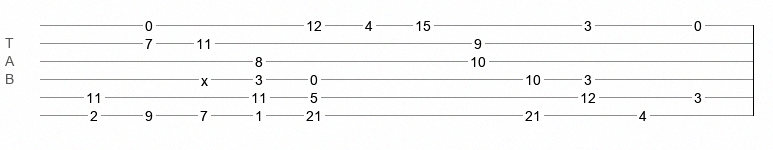0: (145, 18, 153, 28), (310, 72, 318, 82), (694, 18, 702, 28)
1: (255, 108, 263, 118)
10: (470, 54, 486, 64), (525, 72, 541, 82)
11: (86, 90, 102, 100), (196, 36, 212, 46), (251, 90, 267, 100)
12: (306, 18, 322, 28), (580, 90, 596, 100)
15: (415, 18, 431, 28)
2: (90, 108, 98, 118)
21: (306, 108, 322, 118), (525, 108, 541, 118)
3: (255, 72, 263, 82), (584, 18, 592, 28), (584, 72, 592, 82), (694, 90, 702, 100)
4: (365, 18, 373, 28), (639, 108, 647, 118)
5: (310, 90, 318, 100)
7: (145, 36, 153, 46), (200, 108, 208, 118)
8: (255, 54, 263, 64)
9: (145, 108, 153, 118), (474, 36, 482, 46)
x: (201, 73, 208, 81)
